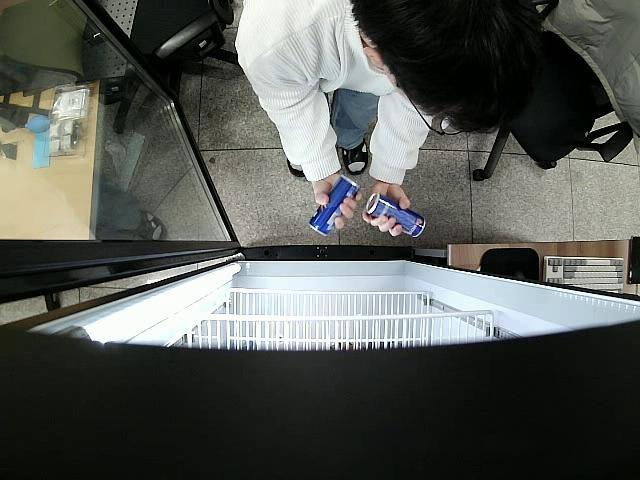16_hot6: (308, 174, 360, 238), (366, 190, 426, 237)
